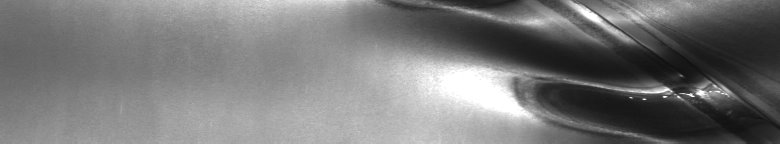ke: (442, 4, 759, 136)
